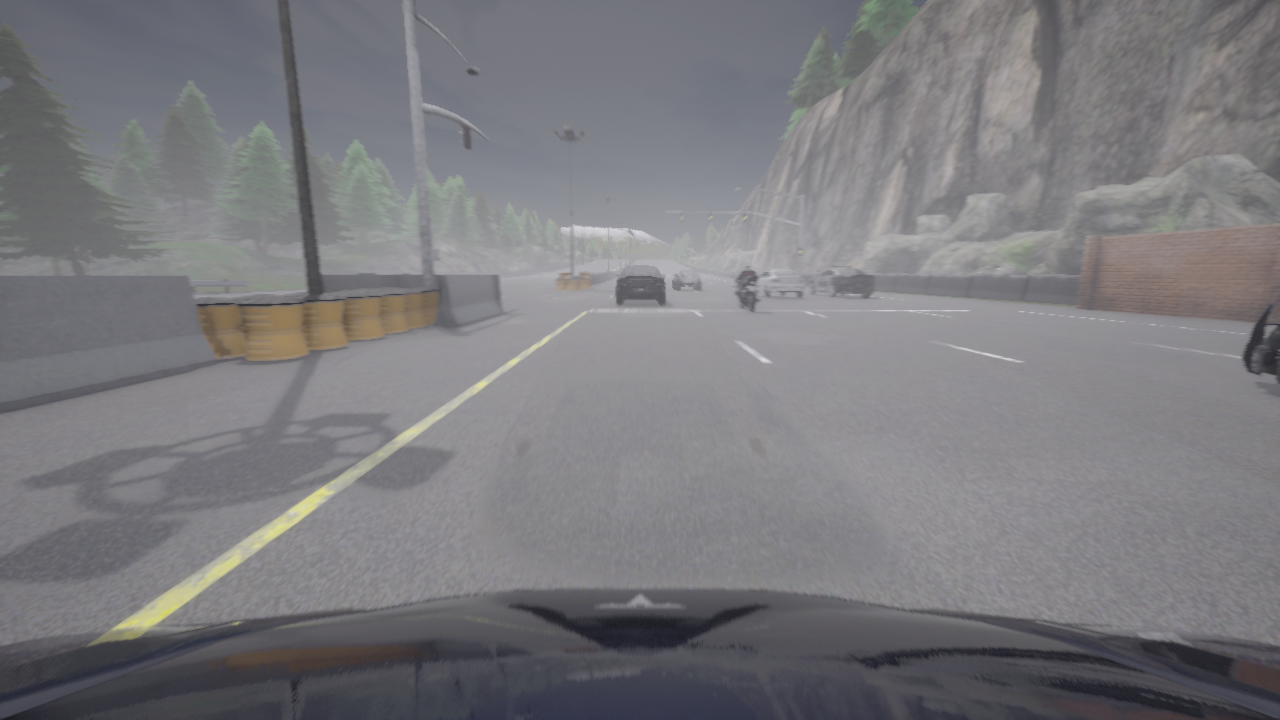cyclist: (0, 588, 1279, 719), (1242, 303, 1279, 383), (809, 265, 873, 297), (616, 266, 664, 304), (757, 269, 803, 298), (731, 274, 760, 312), (673, 269, 700, 289)
